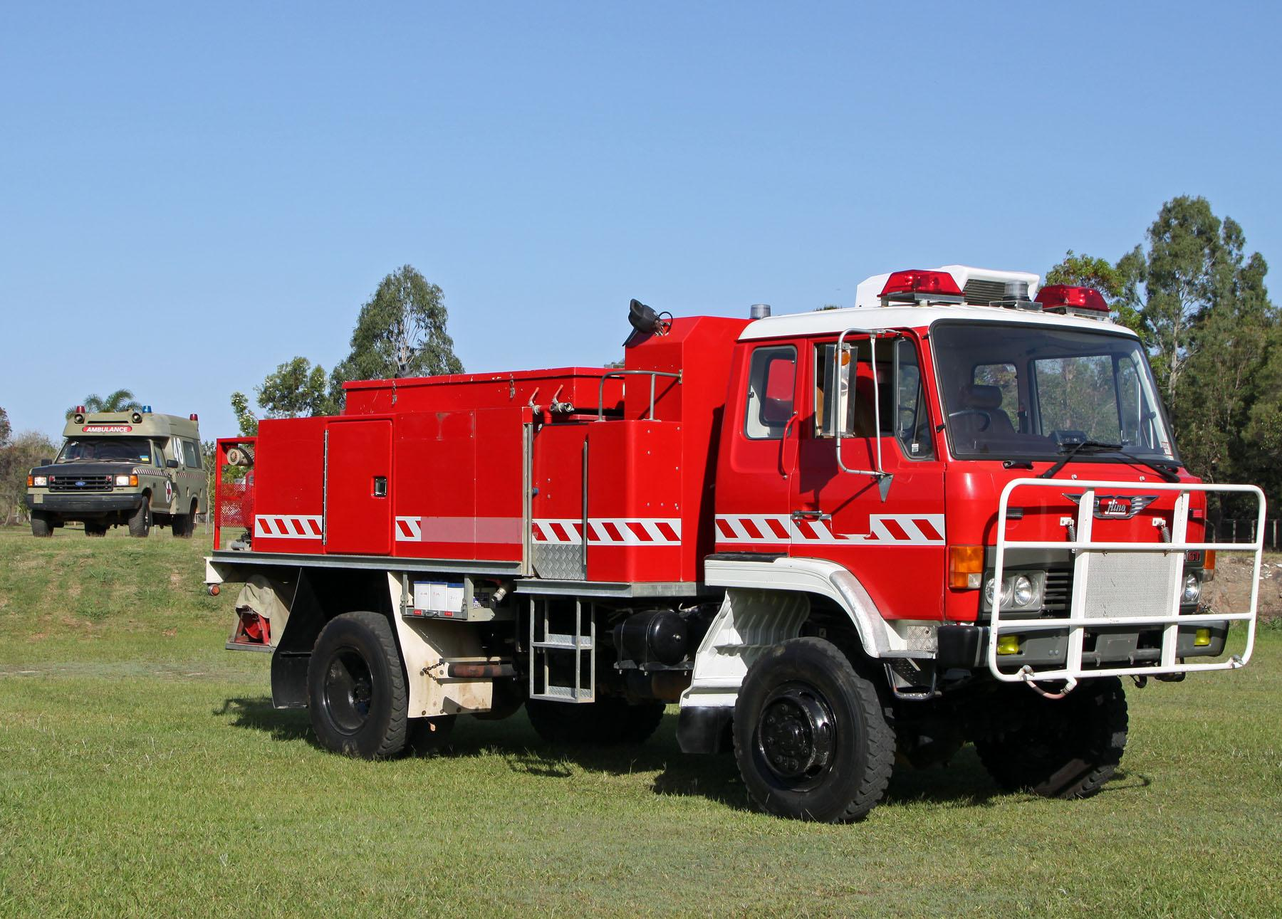Fire-engine: (203, 264, 1266, 824)
